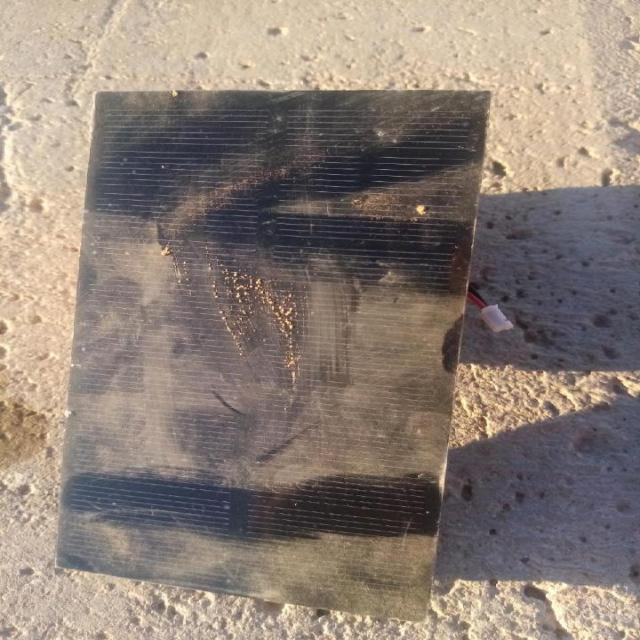faulty: (71, 85, 476, 603)
